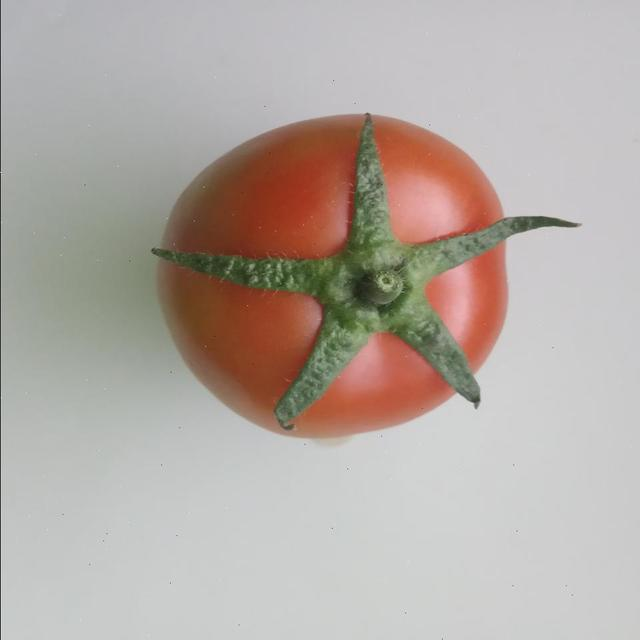Healthy Fruit: (96, 67, 349, 300)
